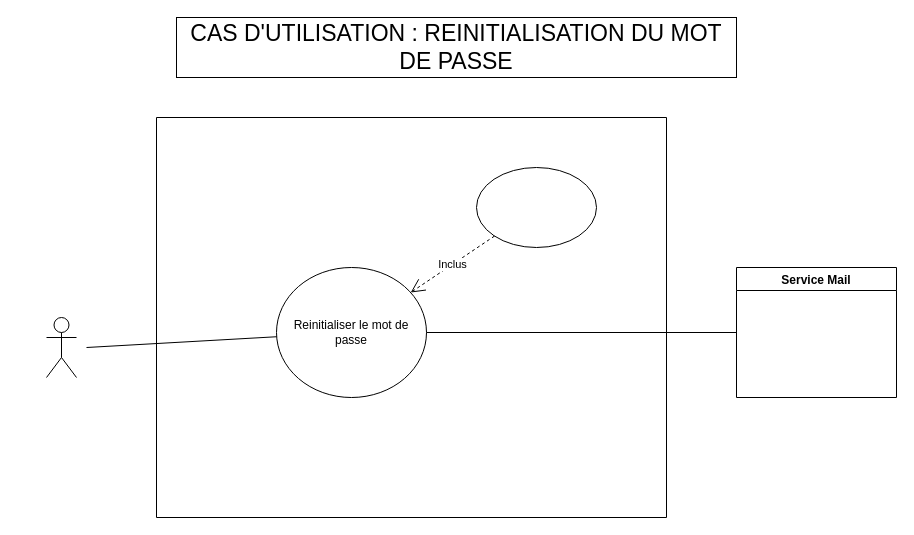
Image size: 914x535. Some labels were removed from this diagram. Each missing label, with the centre of its shape:
"Etre inscrit" goes at point (536, 207).
"Utilisateur verifié" goes at point (61, 347).
